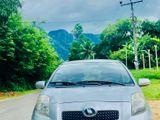car: (30, 58, 150, 120)
